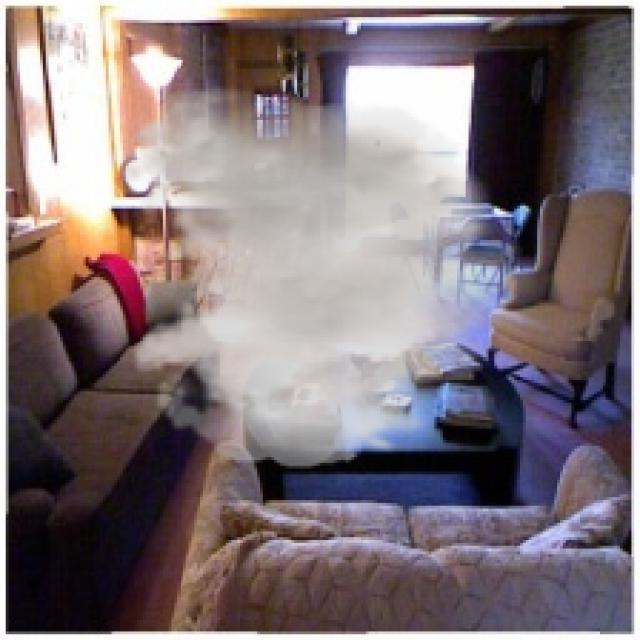smoke: (120, 86, 546, 468)
